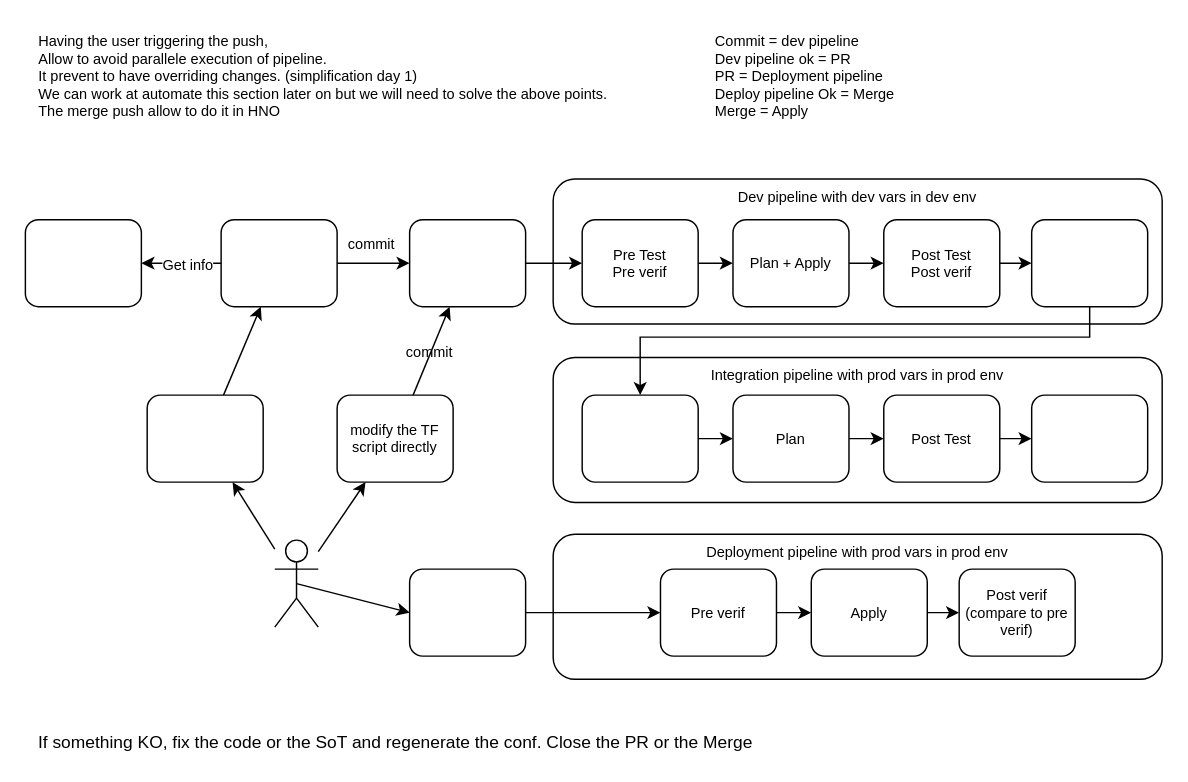
Some shapes in this 1188 by 782 pixel diagram are drawn without their labels. Each missing label, with the centre of its shape:
"Actor" belongs at [295,583].
"Create Pull Request to main branch" belongs at [1089,262].
"Merge" belongs at [467,612].
"PR Check ok, Merge available" belongs at [1089,438].
"Pre Test" belongs at [639,438].
"version control system dev branch" belongs at [467,262].
